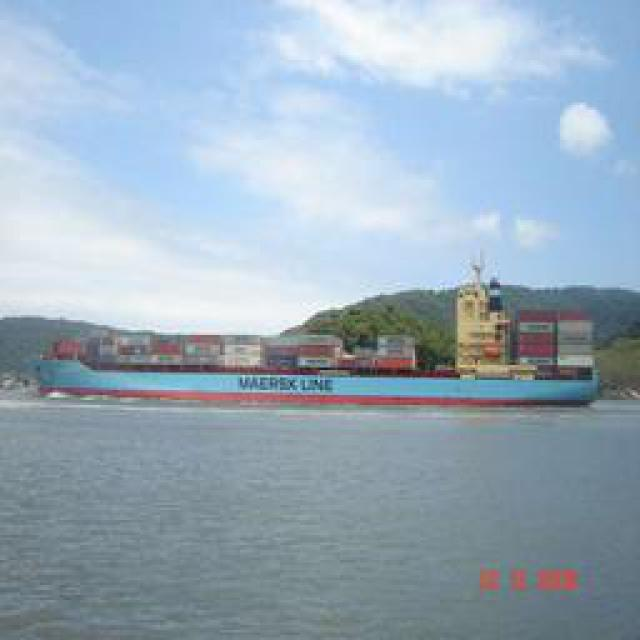Ship: (51, 319, 604, 409)
